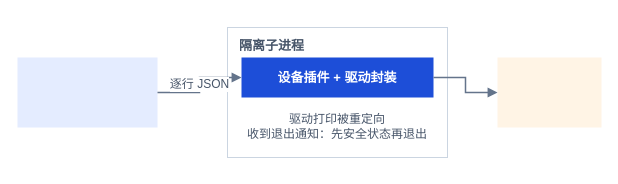
Image size: 618x184. Some labels were removed from this diagram. Here are the shapes that lost their labels. From the top down, the centre of each, then its label:
At point 87,92: "测试引擎 设备宿主".
At point 549,92: "厂商 DLL 可能崩溃 或乱打印".
